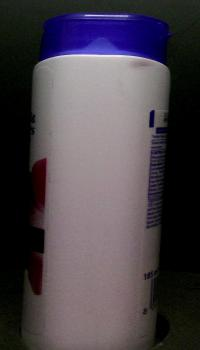dent_marginal: (114, 56, 170, 73)
